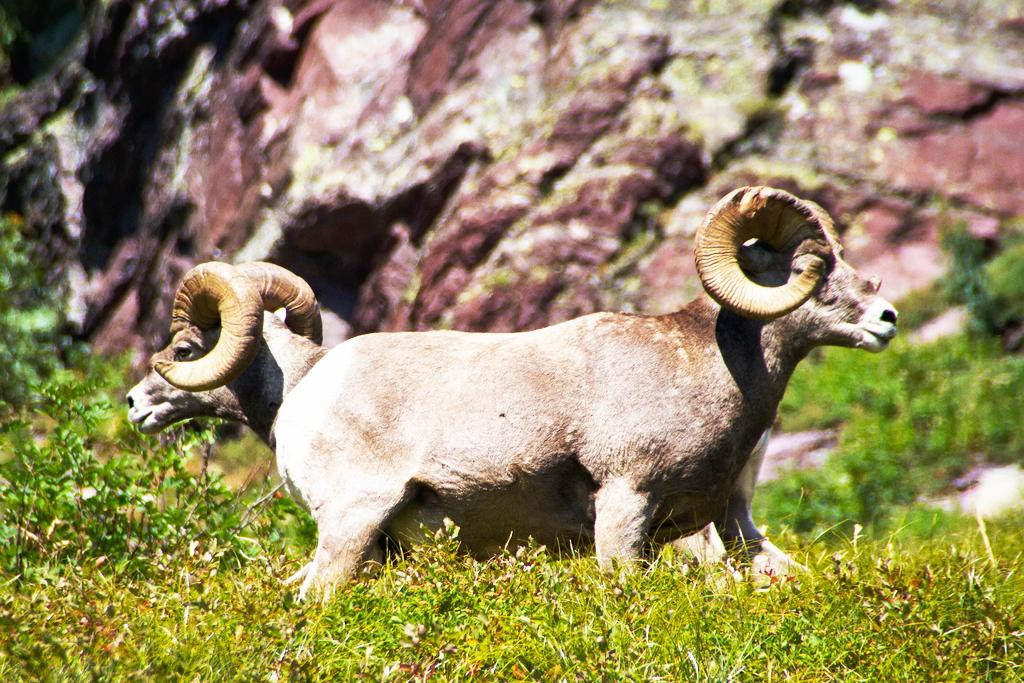Sheep: (268, 186, 898, 663), (128, 256, 708, 560)
